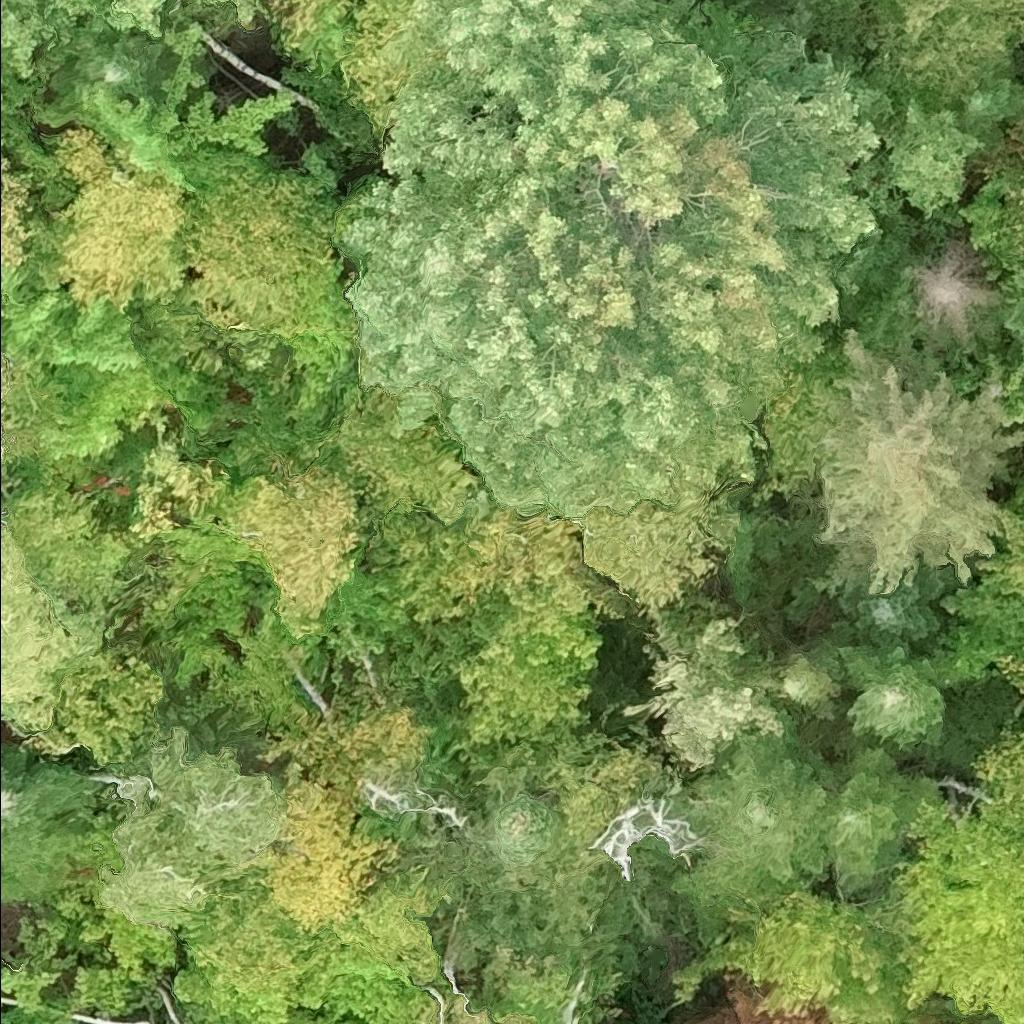crown: (335, 0, 915, 521), (431, 744, 692, 975), (812, 323, 1023, 603), (87, 728, 285, 924), (863, 797, 1023, 1023), (670, 887, 921, 1023), (675, 730, 839, 936), (620, 607, 800, 771), (182, 145, 342, 328), (53, 125, 195, 312), (252, 763, 404, 934), (173, 878, 346, 1023), (72, 20, 207, 200), (234, 464, 360, 642), (0, 519, 103, 733), (457, 608, 603, 749), (581, 491, 737, 616), (336, 395, 479, 524), (818, 742, 939, 893), (864, 0, 1023, 113), (162, 477, 273, 638), (267, 701, 433, 799), (0, 749, 99, 902), (0, 0, 178, 83), (0, 285, 144, 376), (44, 12, 172, 112), (40, 355, 163, 459), (838, 635, 949, 750), (262, 277, 358, 407), (330, 0, 410, 145), (926, 576, 1023, 690), (166, 88, 297, 166), (831, 560, 942, 648), (911, 243, 1003, 345), (314, 558, 411, 643), (321, 949, 431, 1023), (47, 810, 119, 919), (76, 903, 182, 977), (0, 916, 75, 1014), (702, 967, 833, 1023), (774, 639, 850, 722), (958, 64, 1023, 147), (971, 724, 1023, 802), (0, 159, 37, 262), (171, 620, 224, 689), (986, 506, 1023, 595), (258, 0, 320, 49), (996, 267, 1023, 362), (448, 995, 538, 1023), (201, 0, 275, 30), (208, 1009, 363, 1023), (1004, 170, 1023, 268), (993, 655, 1023, 698), (420, 1002, 436, 1023), (1021, 116, 1023, 129), (1023, 385, 1023, 392)
